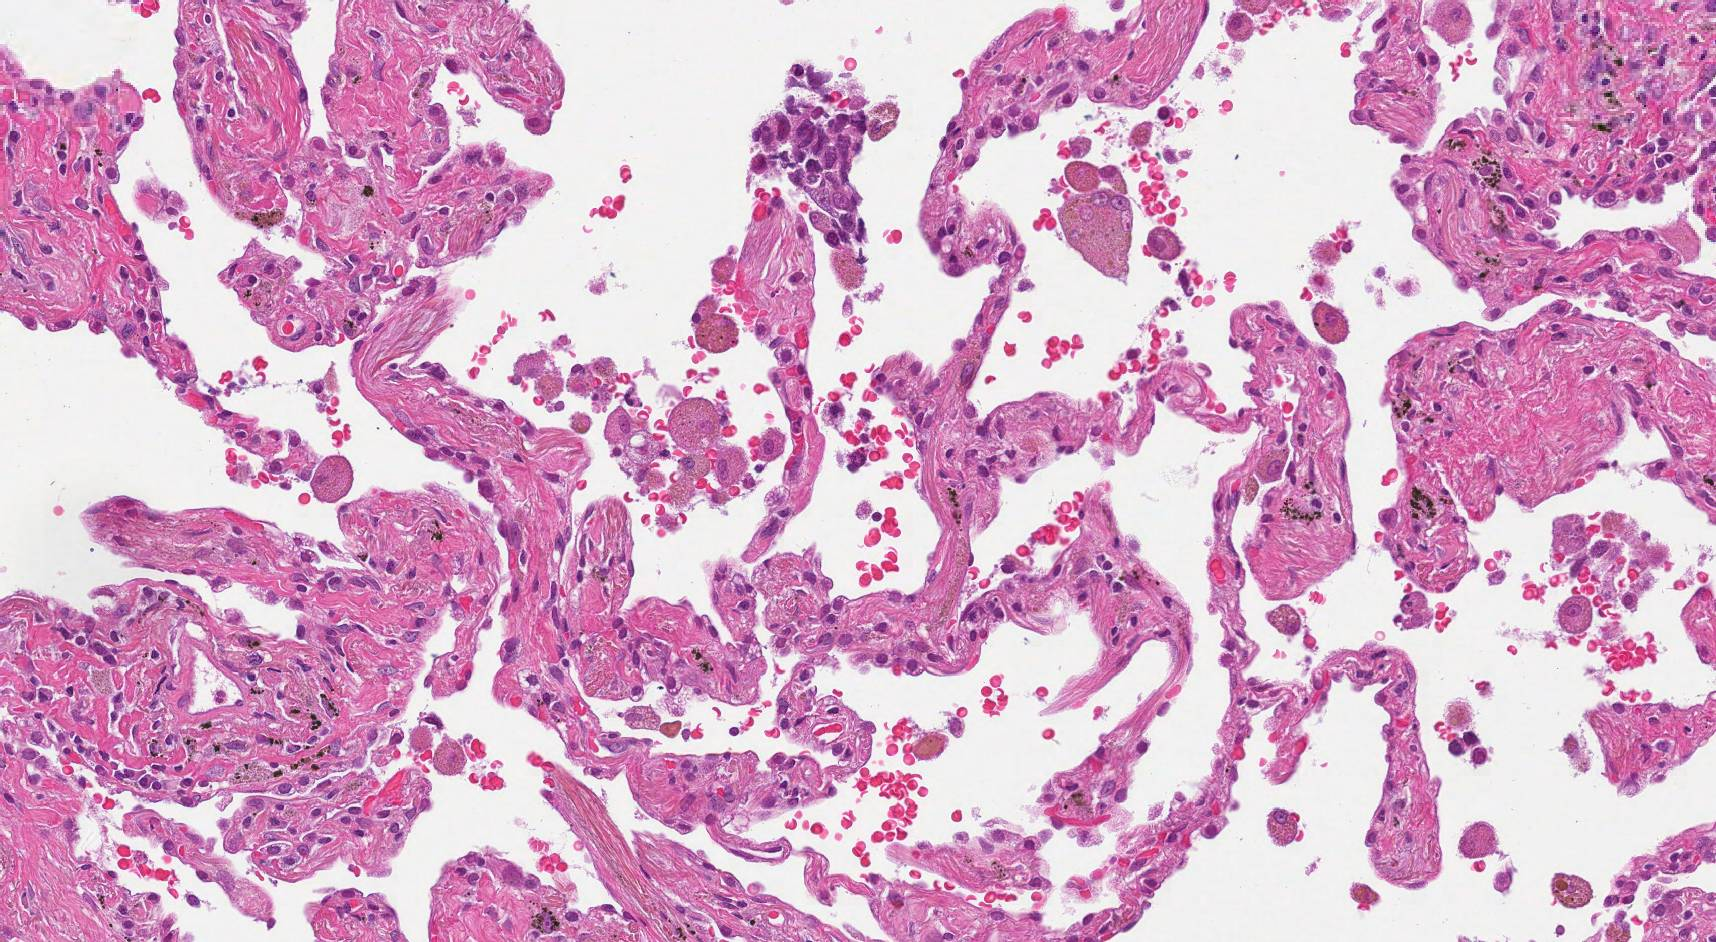stas: (752, 66, 876, 245)
